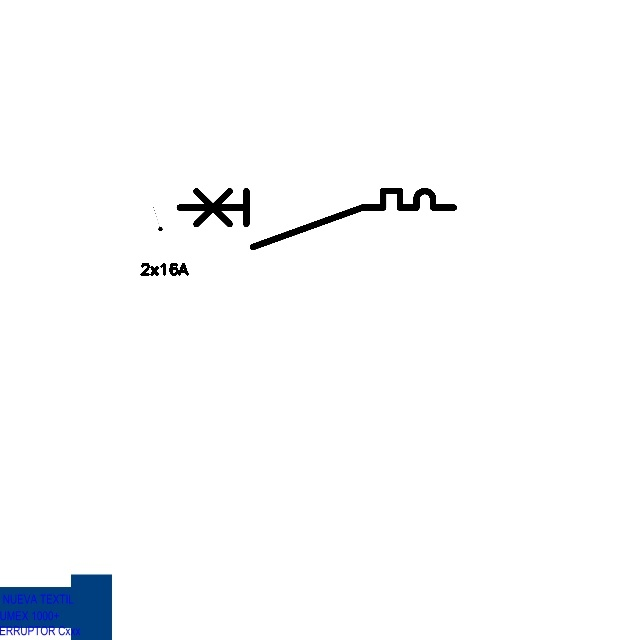interruptor_termomagnetico: (172, 184, 461, 254)
